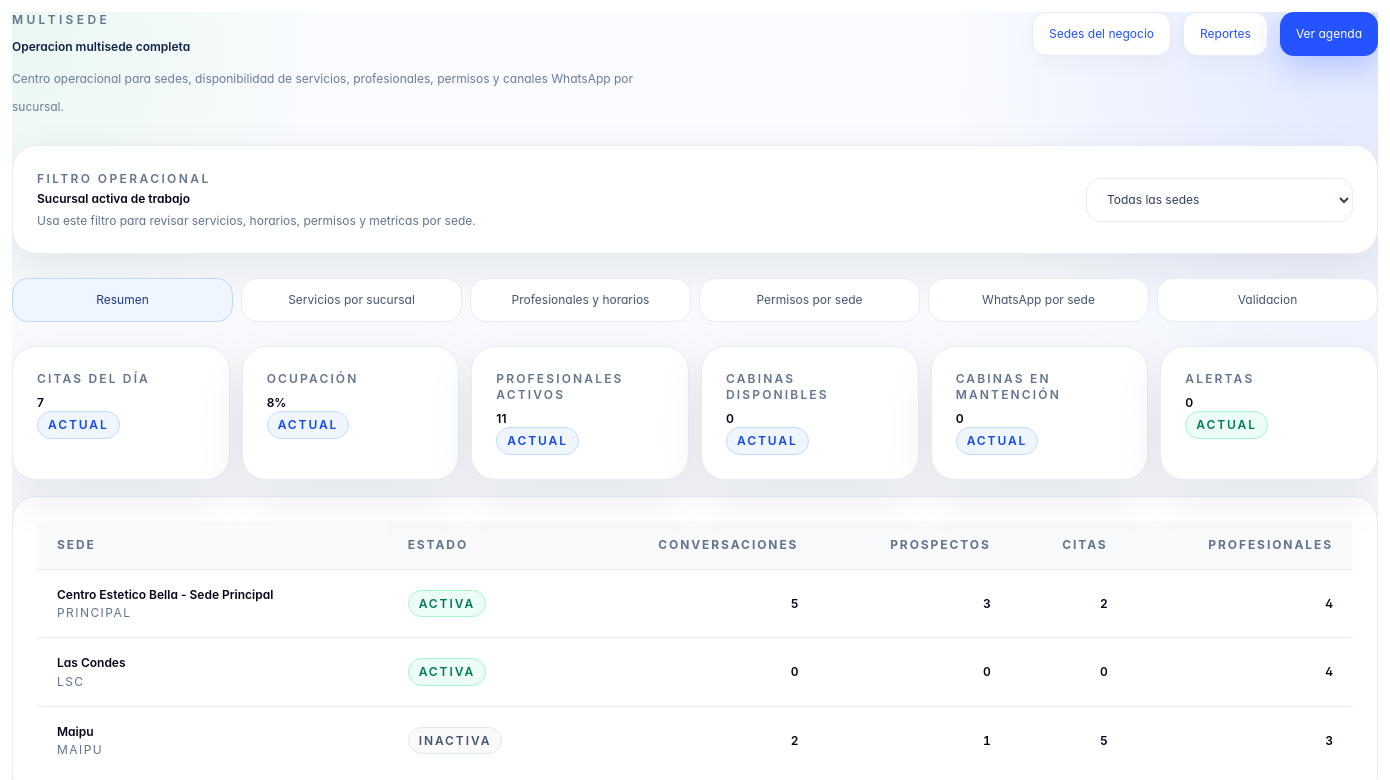
Test: MultisiteOperationsPage - Catalog (Servicios por sede) › shows only services when API returns both products and services
Expected: the table is shown, [37,521,1353,774]
Step 1. Click the button "Servicios por sucursal" → (352, 300), box [241,278,462,322]
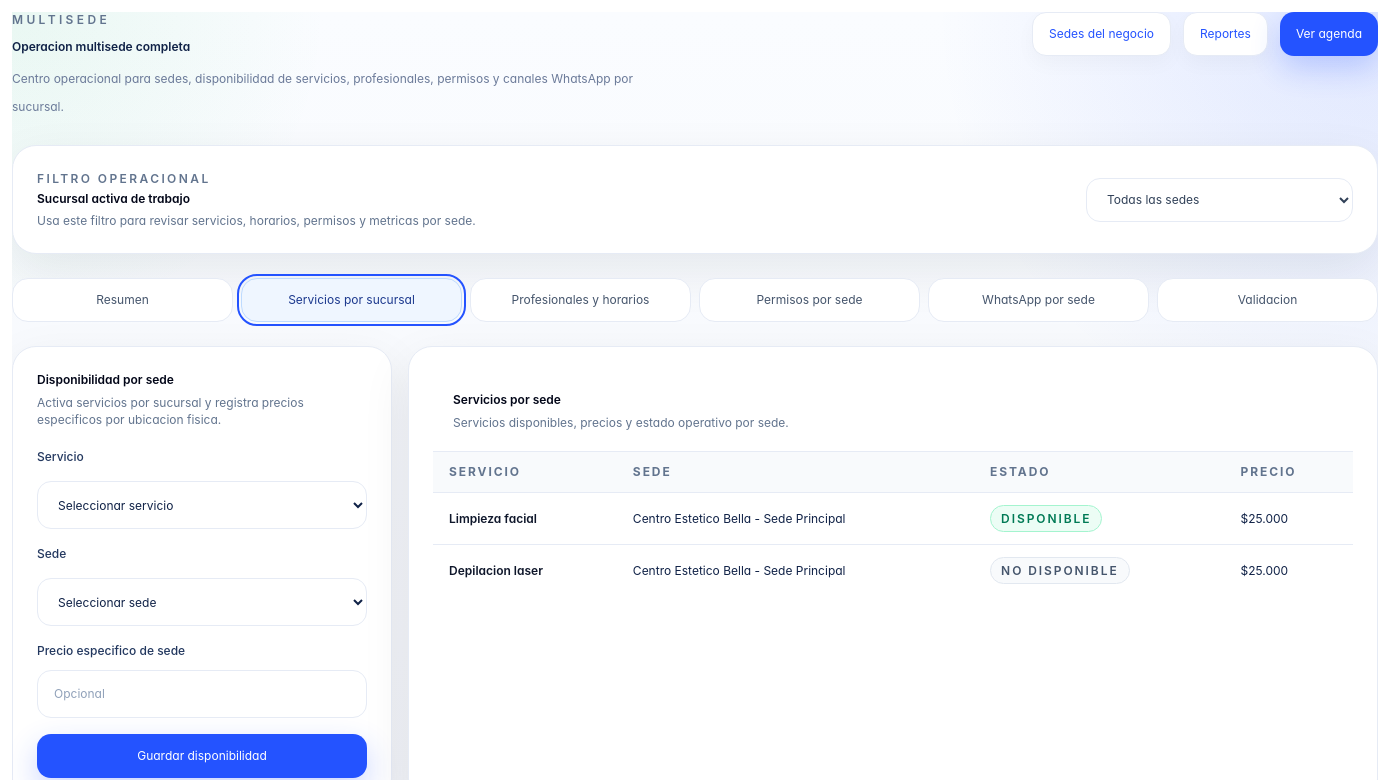
Expected: the heading "Servicios por sede" is shown, [453,392,561,407]
Expected: the table shows "Limpieza facial", [449,511,537,526]
Expected: the table shows "Depilacion laser", [449,563,543,578]
